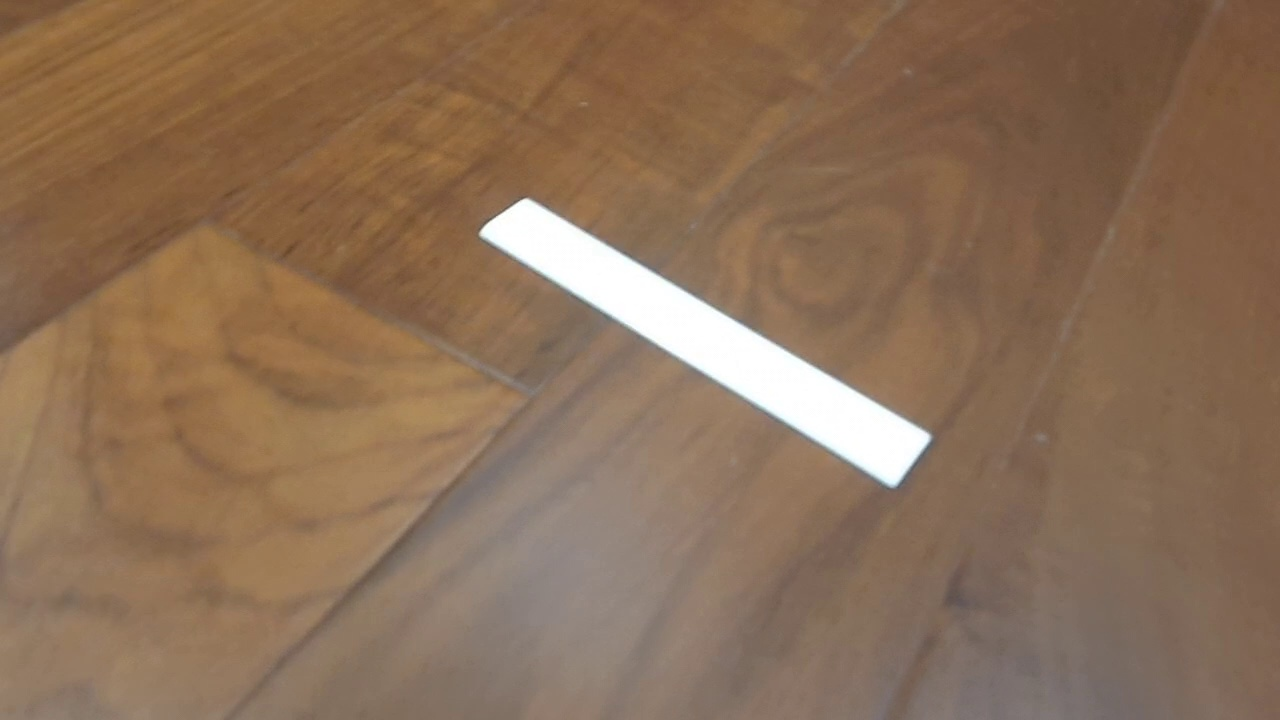ruler: (476, 195, 935, 490)
